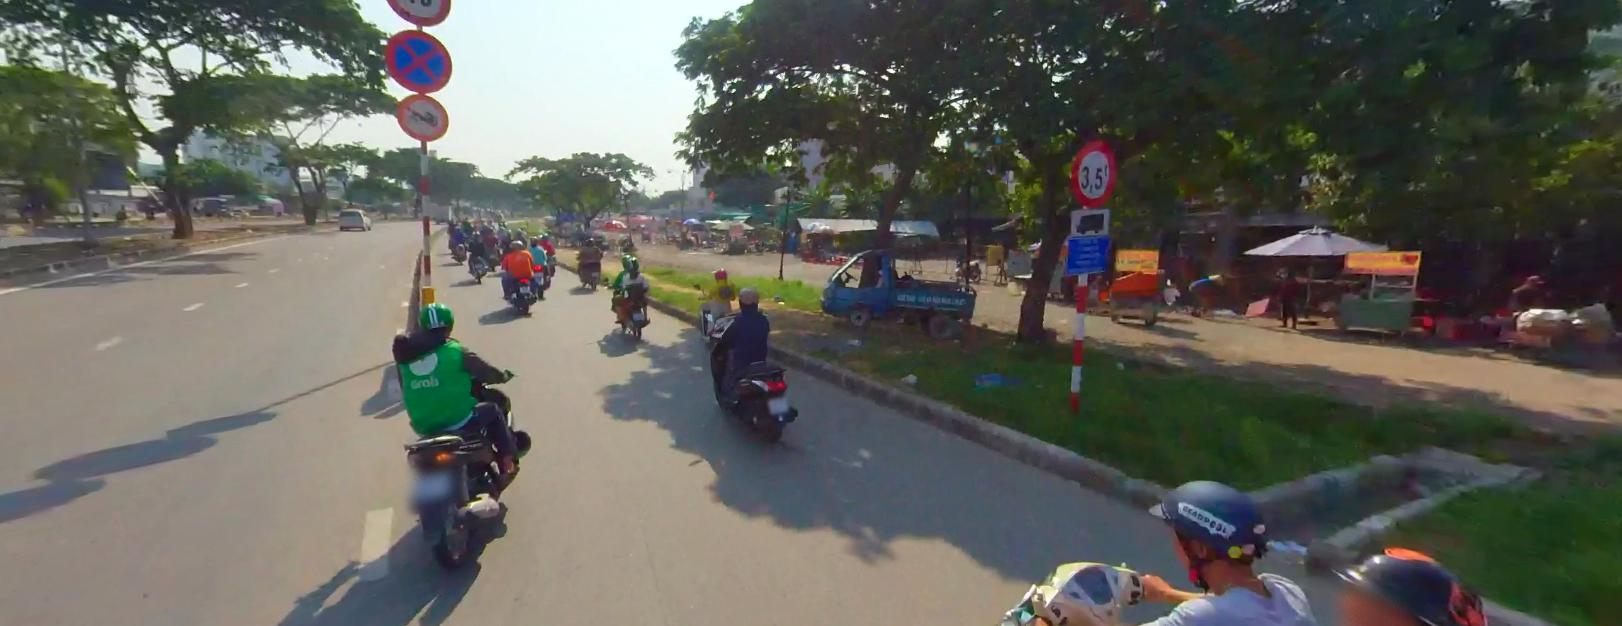Cam con lai: (1071, 139, 1116, 206), (392, 93, 450, 142)
Cam dung va do: (384, 28, 455, 90)
Gioi han toc do: (383, 0, 454, 24)
